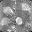people: (1, 16, 12, 27), (2, 6, 14, 16), (15, 17, 23, 25)
